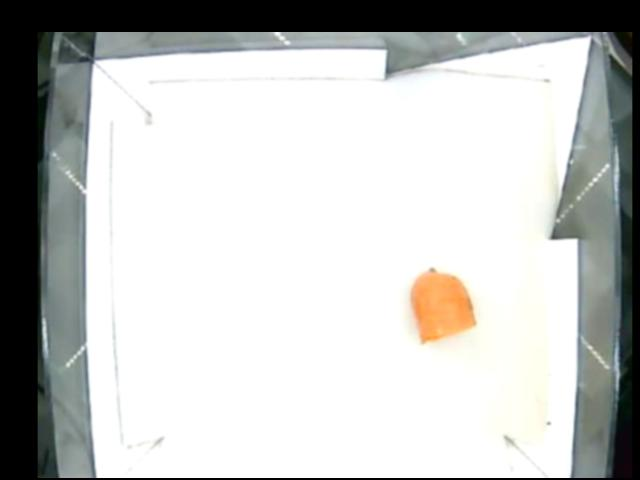Carrot: (411, 268, 474, 345)
